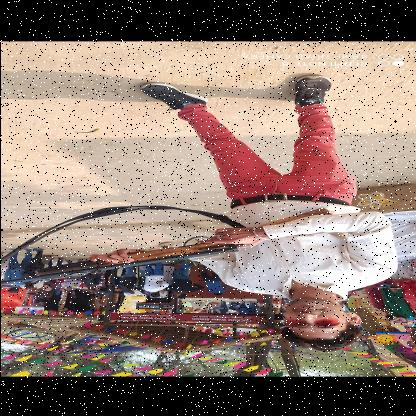rifle: (0, 205, 334, 285)
